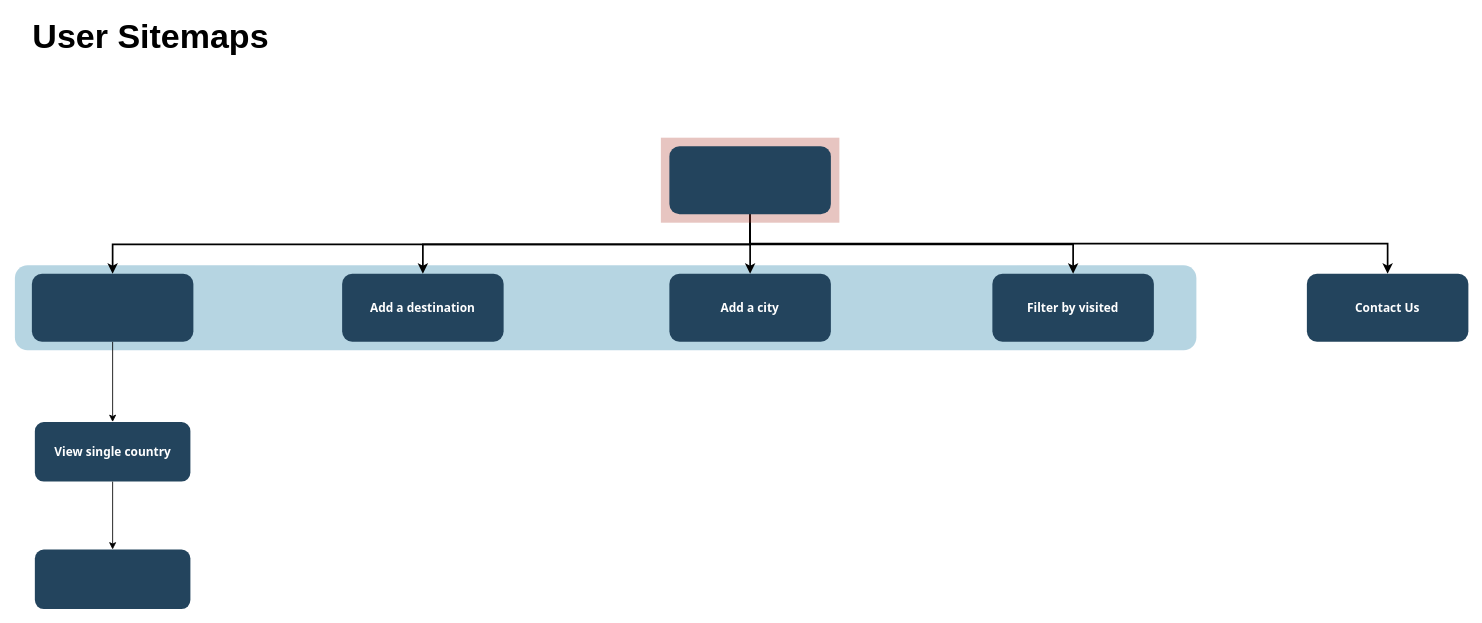
This 1482x623 diagram has some shape labels left out. The centre of each missing label's shape, as x and y in pixels:
Bucketlist: the point at 112,307
Splashpage: the point at 749,180
View country's cities: the point at 112,579
